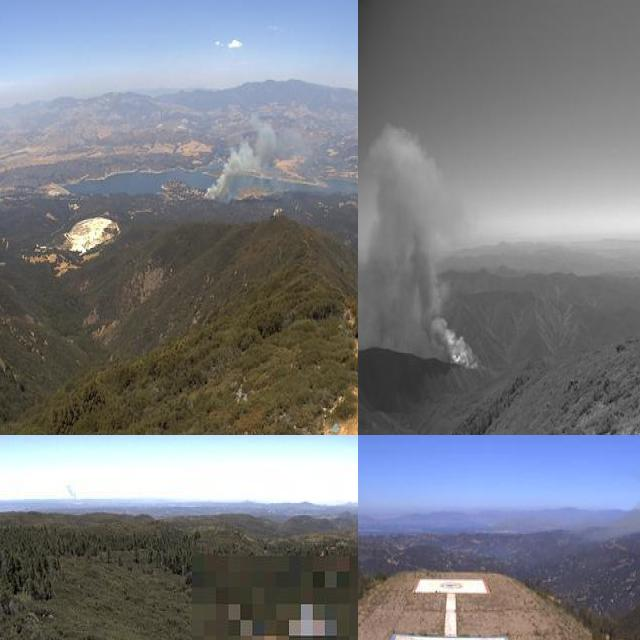smoke: (358, 122, 481, 375), (199, 115, 314, 201), (604, 459, 640, 564), (63, 483, 77, 502)
